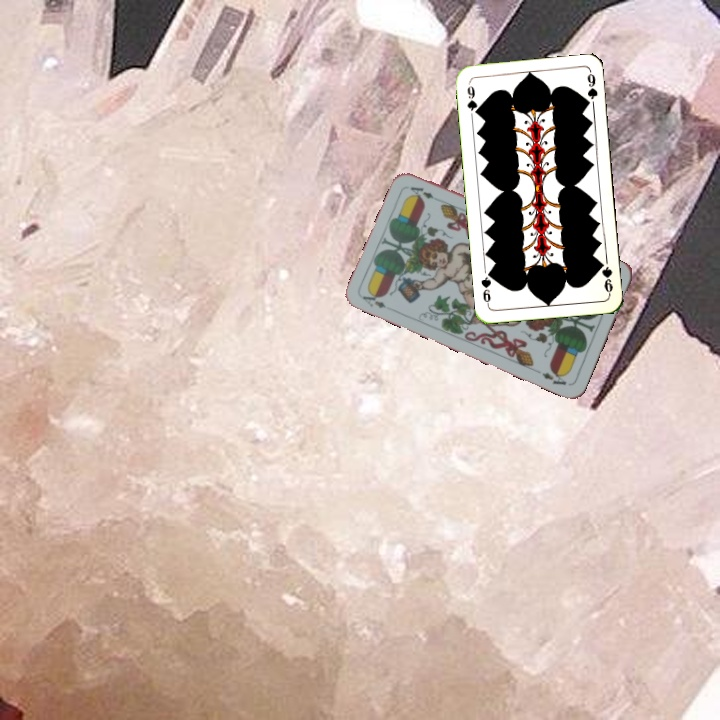EA: (358, 288, 388, 311)
G9: (595, 257, 615, 297), (463, 79, 481, 118)
